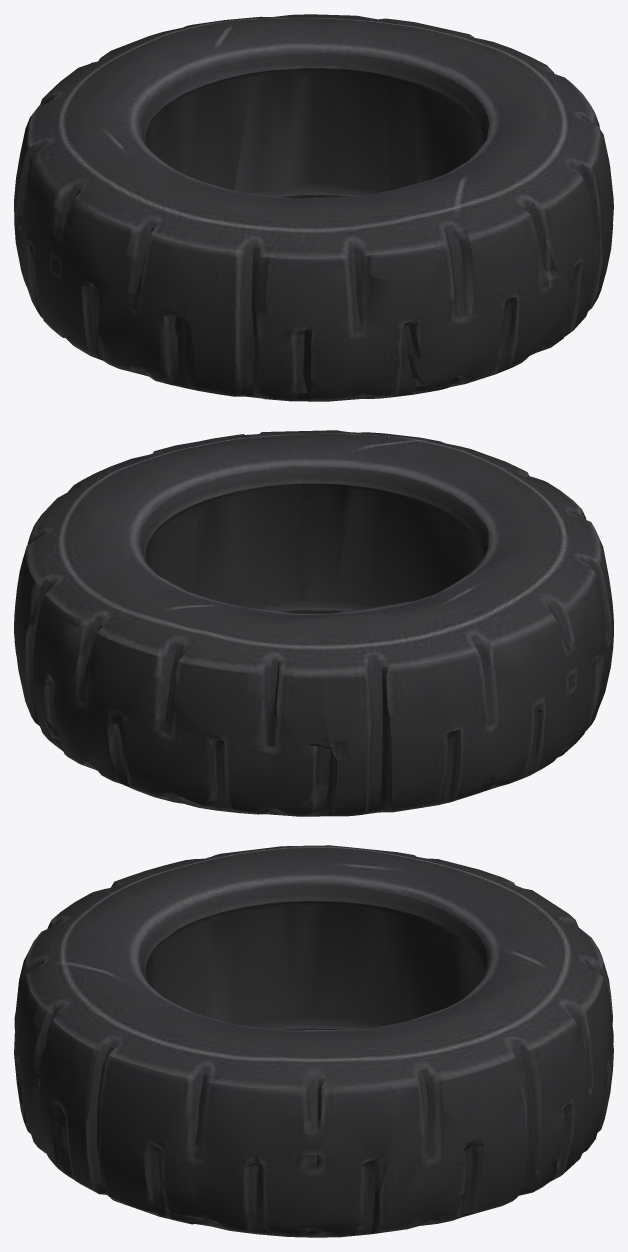
File: arene_pneu.glb
The picture shows the model from 3 angles, top to bottom: view 1: azimuth 30°, elevation 25°; view 2: azimuth 150°, elevation 25°; view 3: azimuth 270°, elevation 25°; orthographic projection.
Parts seen in each view (by area): view 1: Mesh0; view 2: Mesh0; view 3: Mesh0.
Boxes of the visible parts, x1=… form: Mesh0: x1=14, y1=14, x2=613, y2=401; Mesh0: x1=14, y1=430, x2=613, y2=816; Mesh0: x1=14, y1=845, x2=613, y2=1237.
Bounding box in the file's own units: 1.89 × 0.6354 × 1.89.
1 material, 1 textured.
